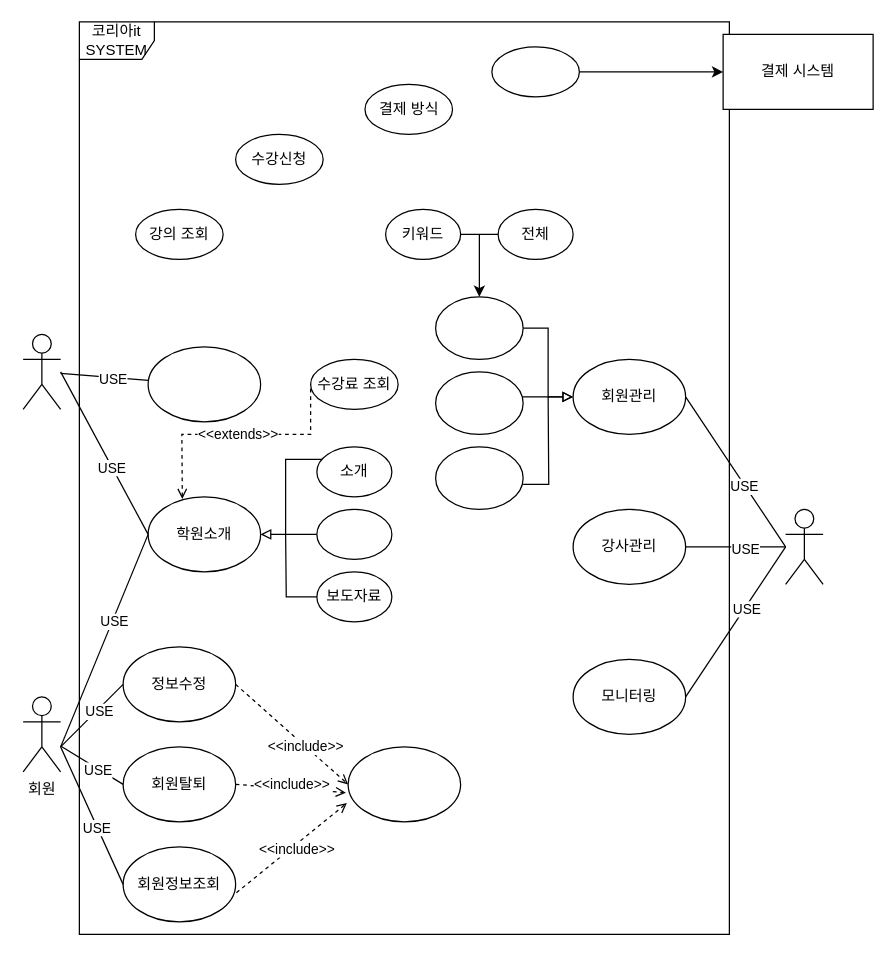
The diagram is 895 pixels wide and 956 high, and some of its shapes have lost their labels. The box of each missing label's shape, as (x1, y1, x2, y2) in pixels:
관리자: (784, 508, 823, 584)
로그인: (347, 746, 461, 822)
비회원: (22, 333, 61, 409)
연혁: (316, 508, 392, 559)
확인: (491, 46, 579, 97)
회원가입: (147, 346, 261, 422)
회원삭제: (434, 446, 523, 509)
회원수정: (434, 371, 523, 434)
회원조회: (434, 296, 523, 359)
